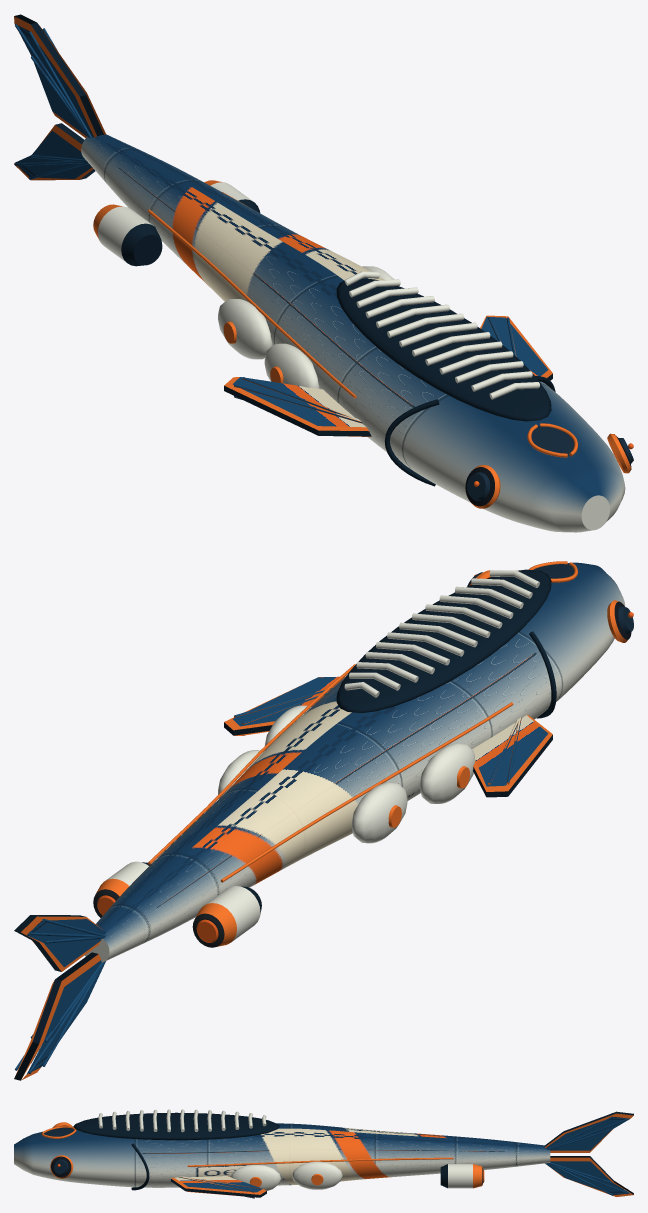
3 views of the same model, one above another, from view 1: azimuth 30°, elevation 25°; view 2: azimuth 150°, elevation 25°; view 3: azimuth 270°, elevation 25° (orthographic). The views are drawn at different scales.
Parts seen in each view (by area): view 1: remora_hull; view 2: remora_hull; view 3: remora_hull.
Part boxes in pixels (bbox=[...]): remora_hull: bbox=[14, 14, 633, 532]; remora_hull: bbox=[14, 561, 633, 1080]; remora_hull: bbox=[14, 1109, 633, 1198].
Bounding box in the file's own units: 10.78 × 5.66 × 38.
Materials: 1 (1 with a texture image).
